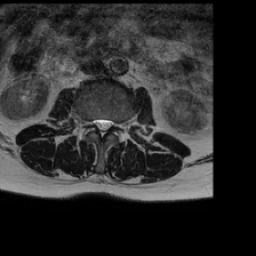CCS_normal: (98, 112, 105, 141)
LFS_stenosis: (114, 114, 121, 134)
LLS_normal: (105, 113, 113, 135)
RFS_stenosis: (85, 114, 92, 134)
RLS_stenosis: (92, 113, 98, 133)
